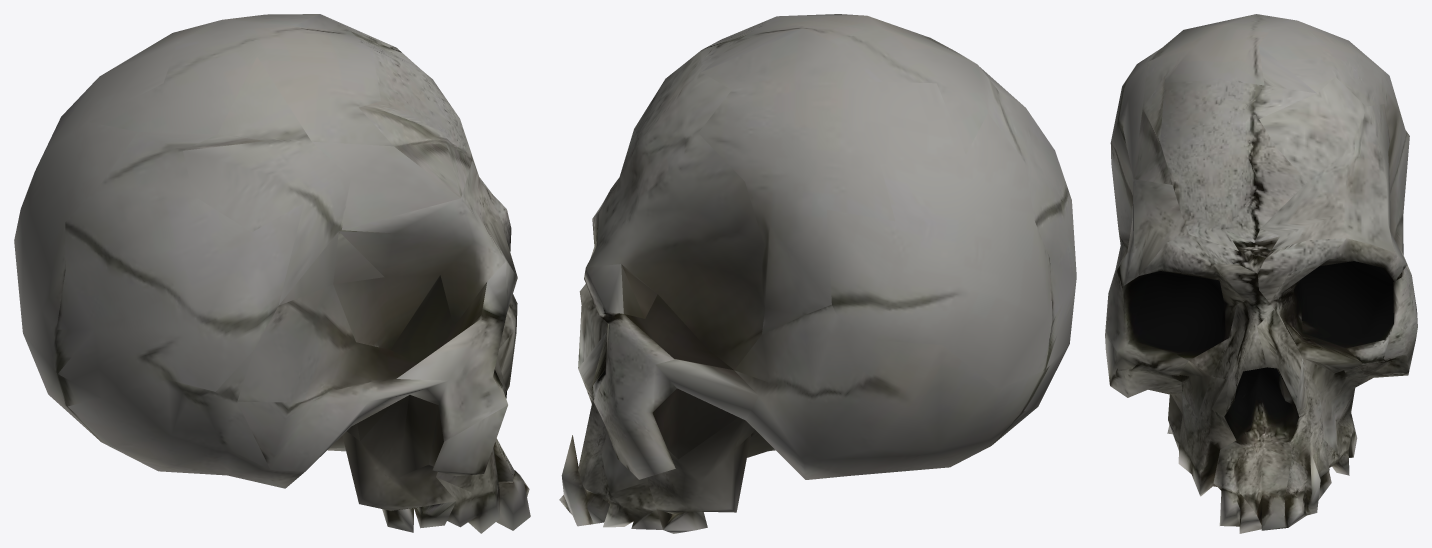
Rendered from skull_worn_ready.glb.
3 views of the same model, side by side, from view 1: azimuth 30°, elevation 25°; view 2: azimuth 150°, elevation 25°; view 3: azimuth 270°, elevation 25° (orthographic). The views are drawn at different scales.
Visible parts, largest first — view 1: Module; view 2: Module; view 3: Module.
Part boxes in pixels (box(x1,y1,x2,y2)): Module: box(14, 14, 530, 533); Module: box(559, 14, 1076, 533); Module: box(1105, 14, 1417, 533).
Size of the model in its own units: 0.936 by 1 by 0.693.
1 material, 1 textured.
